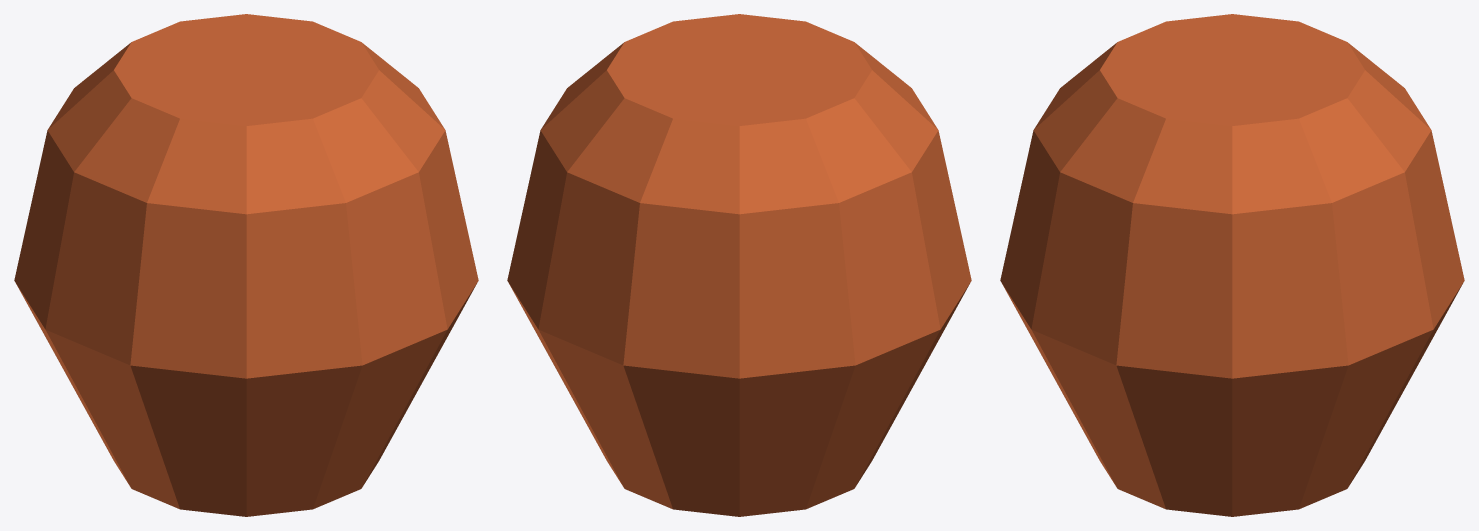
Rendered from pithos_jar.glb.
3 renders of one model, left to right at view 1: azimuth 30°, elevation 25°; view 2: azimuth 150°, elevation 25°; view 3: azimuth 270°, elevation 25°, orthographic.
Parts seen in each view (by area): view 1: pithos_jar; view 2: pithos_jar; view 3: pithos_jar.
Part boxes in pixels (x1=…): pithos_jar: x1=14, y1=14, x2=478, y2=516; pithos_jar: x1=507, y1=14, x2=971, y2=516; pithos_jar: x1=1000, y1=14, x2=1464, y2=516.
Size of the model in its own units: 1.4 by 1.3 by 1.4.
